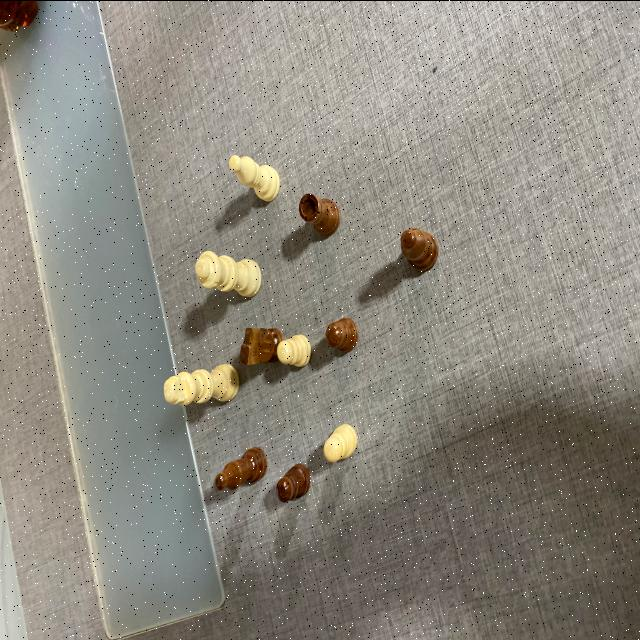Black-Bishop: (214, 446, 268, 492)
Black-Knight: (239, 324, 282, 366)
Black-Pawn: (400, 223, 440, 270), (276, 462, 312, 504), (324, 316, 360, 352)
Black-Rook: (298, 191, 340, 235)
White-Bishop: (228, 152, 280, 202)
White-King: (163, 362, 240, 404)
White-Pawn: (322, 422, 358, 463), (276, 332, 312, 368)
White-Queen: (194, 248, 263, 296)
